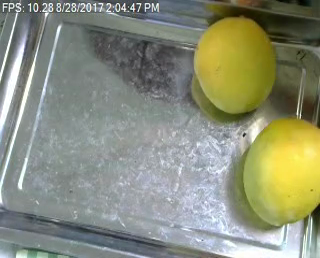Mango: (236, 117, 320, 229), (193, 14, 282, 118)
